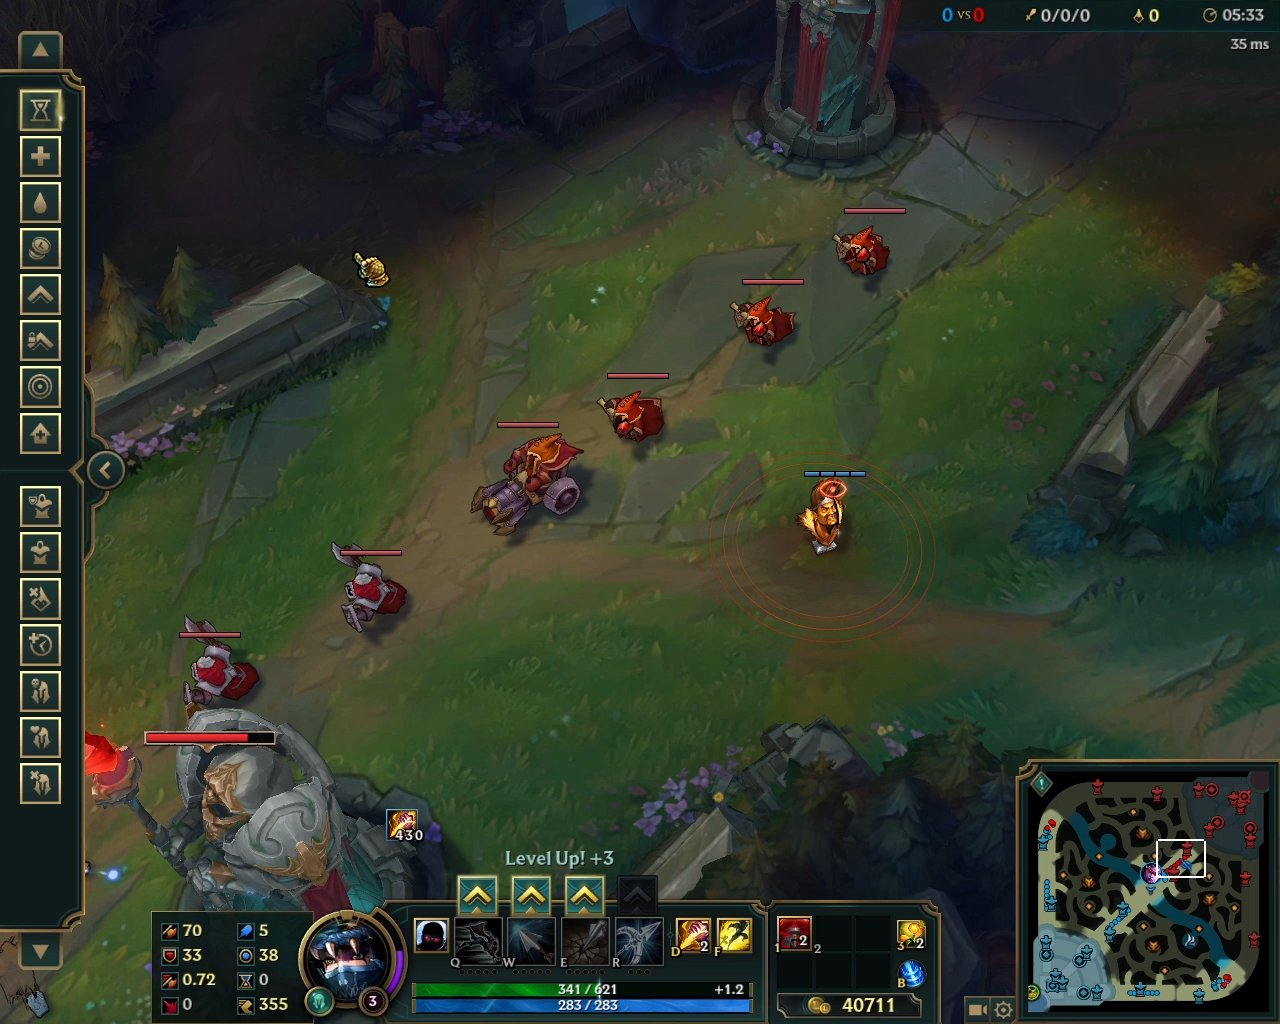EnemyMinion: (465, 417, 588, 544), (177, 615, 261, 712), (329, 540, 408, 638), (822, 205, 911, 282), (595, 371, 667, 450), (727, 278, 804, 351)
Tower: (77, 715, 427, 912)
